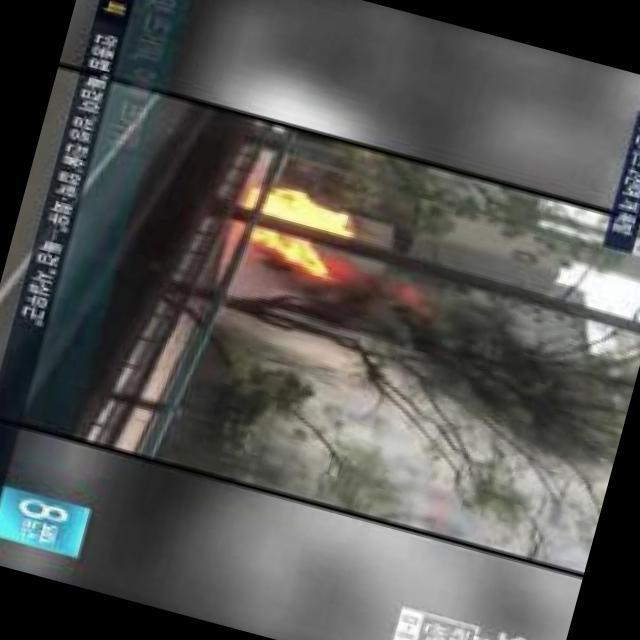Fire: (225, 168, 346, 287)
